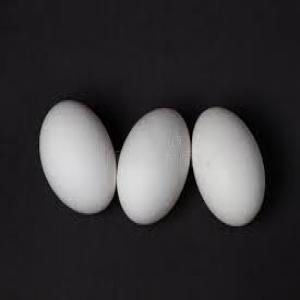Egg: (38, 98, 117, 214), (192, 107, 266, 228), (117, 106, 190, 226)
